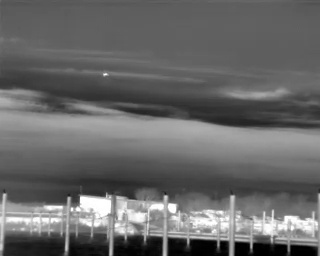BIRD: (101, 69, 110, 80)
